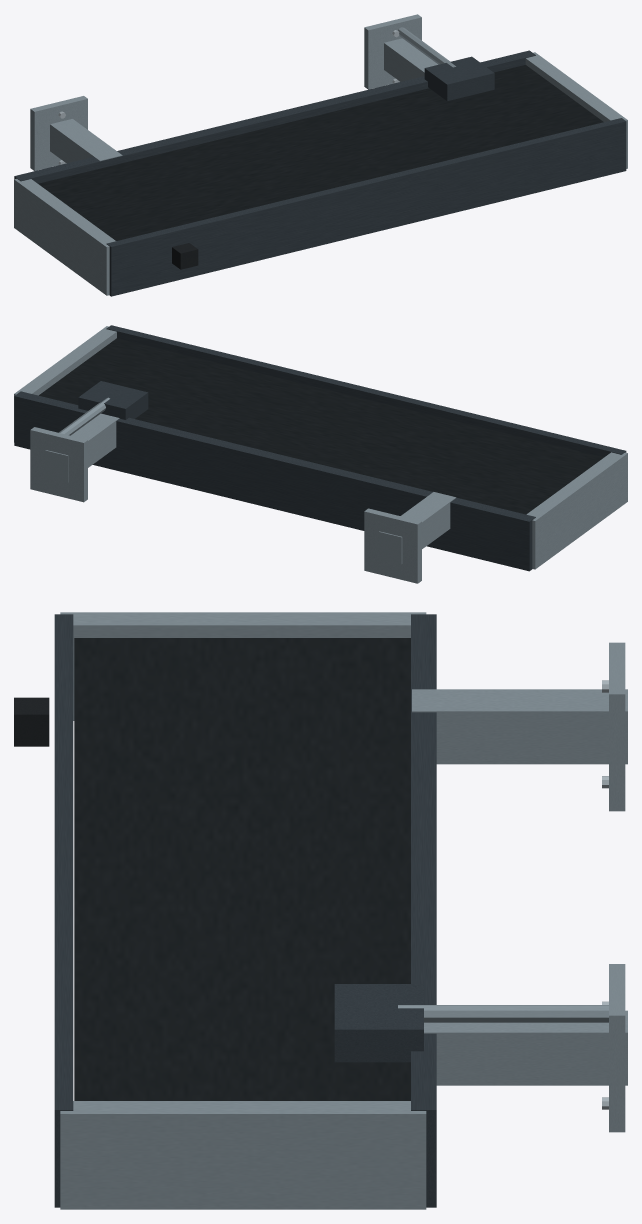
File: PZ_Runway_Hold_Sign_09_27.glb
3 views of the same model, one above another, from view 1: azimuth 30°, elevation 25°; view 2: azimuth 150°, elevation 25°; view 3: azimuth 270°, elevation 25° (orthographic). The views are drawn at different scales.
Visible parts, largest first — view 1: PZ_Runway_Hold_Sign_09_27__Sign_Enclosure, PZ_Runway_Hold_Sign_09_27__TopWeatherLip, PZ_Runway_Hold_Sign_09_27__LowerFrameLip, PZ_Runway_Hold_Sign_09_27__Left_EdgeRail, PZ_Runway_Hold_Sign_09_27__Left_AnchorPlate, PZ_Runway_Hold_Sign_09_27__RearJunctionBox, PZ_Runway_Hold_Sign_09_27__Right_AnchorPlate, PZ_Runway_Hold_Sign_09_27__Left_FootStand, PZ_Runway_Hold_Sign_09_27__Right_EdgeRail, PZ_Runway_Hold_Sign_09_27__Right_FootStand, PZ_Runway_Hold_Sign_09_27__PhotocellSensor, PZ_Runway_Hold_Sign_09_27__SupplyConduit; view 2: PZ_Runway_Hold_Sign_09_27__Sign_Enclosure, PZ_Runway_Hold_Sign_09_27__LowerFrameLip, PZ_Runway_Hold_Sign_09_27__TopWeatherLip, PZ_Runway_Hold_Sign_09_27__Left_EdgeRail, PZ_Runway_Hold_Sign_09_27__Right_AnchorPlate, PZ_Runway_Hold_Sign_09_27__Left_AnchorPlate, PZ_Runway_Hold_Sign_09_27__Left_FootStand, PZ_Runway_Hold_Sign_09_27__Right_FootStand, PZ_Runway_Hold_Sign_09_27__RearJunctionBox, PZ_Runway_Hold_Sign_09_27__Right_EdgeRail, PZ_Runway_Hold_Sign_09_27__SupplyConduit; view 3: PZ_Runway_Hold_Sign_09_27__Sign_Enclosure, PZ_Runway_Hold_Sign_09_27__Right_EdgeRail, PZ_Runway_Hold_Sign_09_27__Left_FootStand, PZ_Runway_Hold_Sign_09_27__LowerFrameLip, PZ_Runway_Hold_Sign_09_27__Right_FootStand, PZ_Runway_Hold_Sign_09_27__TopWeatherLip, PZ_Runway_Hold_Sign_09_27__Left_EdgeRail, PZ_Runway_Hold_Sign_09_27__RearJunctionBox, PZ_Runway_Hold_Sign_09_27__SupplyConduit, PZ_Runway_Hold_Sign_09_27__Left_AnchorPlate, PZ_Runway_Hold_Sign_09_27__Right_AnchorPlate, PZ_Runway_Hold_Sign_09_27__PhotocellSensor.
Part boxes in pixels (x1,y1,x2,y2): PZ_Runway_Hold_Sign_09_27__Sign_Enclosure: [38, 65, 603, 240]; PZ_Runway_Hold_Sign_09_27__TopWeatherLip: [106, 118, 626, 296]; PZ_Runway_Hold_Sign_09_27__LowerFrameLip: [14, 50, 535, 183]; PZ_Runway_Hold_Sign_09_27__Left_EdgeRail: [14, 178, 115, 295]; PZ_Runway_Hold_Sign_09_27__Left_AnchorPlate: [30, 96, 87, 170]; PZ_Runway_Hold_Sign_09_27__RearJunctionBox: [424, 56, 494, 101]; PZ_Runway_Hold_Sign_09_27__Right_AnchorPlate: [364, 14, 421, 89]; PZ_Runway_Hold_Sign_09_27__Left_FootStand: [50, 119, 122, 163]; PZ_Runway_Hold_Sign_09_27__Right_EdgeRail: [525, 52, 627, 168]; PZ_Runway_Hold_Sign_09_27__Right_FootStand: [384, 38, 437, 81]; PZ_Runway_Hold_Sign_09_27__PhotocellSensor: [172, 243, 198, 269]; PZ_Runway_Hold_Sign_09_27__SupplyConduit: [398, 27, 455, 67]; PZ_Runway_Hold_Sign_09_27__Sign_Enclosure: [39, 338, 603, 514]; PZ_Runway_Hold_Sign_09_27__LowerFrameLip: [14, 391, 535, 571]; PZ_Runway_Hold_Sign_09_27__TopWeatherLip: [106, 325, 626, 457]; PZ_Runway_Hold_Sign_09_27__Left_EdgeRail: [526, 452, 627, 569]; PZ_Runway_Hold_Sign_09_27__Right_AnchorPlate: [30, 427, 87, 502]; PZ_Runway_Hold_Sign_09_27__Left_AnchorPlate: [364, 508, 421, 583]; PZ_Runway_Hold_Sign_09_27__Left_FootStand: [379, 492, 456, 564]; PZ_Runway_Hold_Sign_09_27__Right_FootStand: [45, 413, 119, 482]; PZ_Runway_Hold_Sign_09_27__RearJunctionBox: [78, 381, 148, 419]; PZ_Runway_Hold_Sign_09_27__Right_EdgeRail: [14, 326, 116, 442]; PZ_Runway_Hold_Sign_09_27__SupplyConduit: [59, 397, 109, 435]; PZ_Runway_Hold_Sign_09_27__Sign_Enclosure: [74, 638, 410, 1100]; PZ_Runway_Hold_Sign_09_27__Right_EdgeRail: [60, 1101, 426, 1209]; PZ_Runway_Hold_Sign_09_27__Left_FootStand: [412, 689, 627, 764]; PZ_Runway_Hold_Sign_09_27__LowerFrameLip: [411, 614, 436, 1207]; PZ_Runway_Hold_Sign_09_27__Right_FootStand: [424, 1010, 627, 1085]; PZ_Runway_Hold_Sign_09_27__TopWeatherLip: [54, 614, 73, 1207]; PZ_Runway_Hold_Sign_09_27__Left_EdgeRail: [60, 612, 426, 720]; PZ_Runway_Hold_Sign_09_27__RearJunctionBox: [334, 984, 423, 1062]; PZ_Runway_Hold_Sign_09_27__SupplyConduit: [398, 1005, 608, 1022]; PZ_Runway_Hold_Sign_09_27__Left_AnchorPlate: [609, 642, 625, 811]; PZ_Runway_Hold_Sign_09_27__Right_AnchorPlate: [609, 964, 625, 1132]; PZ_Runway_Hold_Sign_09_27__PhotocellSensor: [14, 697, 49, 746].
Size of the model in its own units: 2.53 by 0.3075 by 1.31.
Materials: 2 (2 with a texture image).
